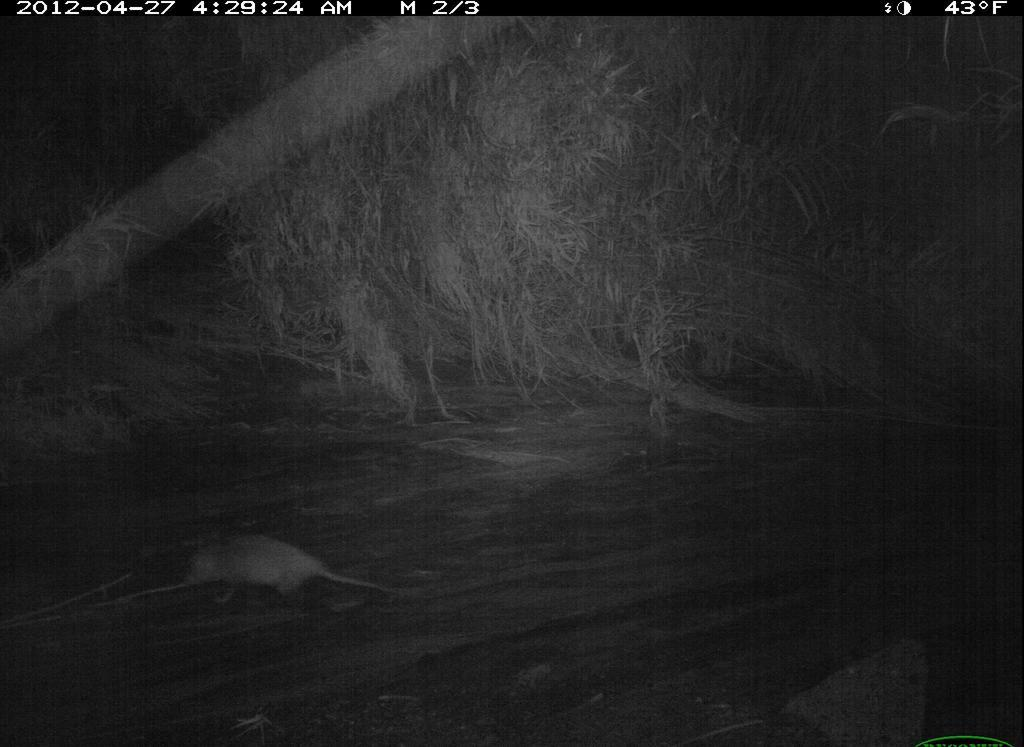opossum: (176, 527, 414, 615)
